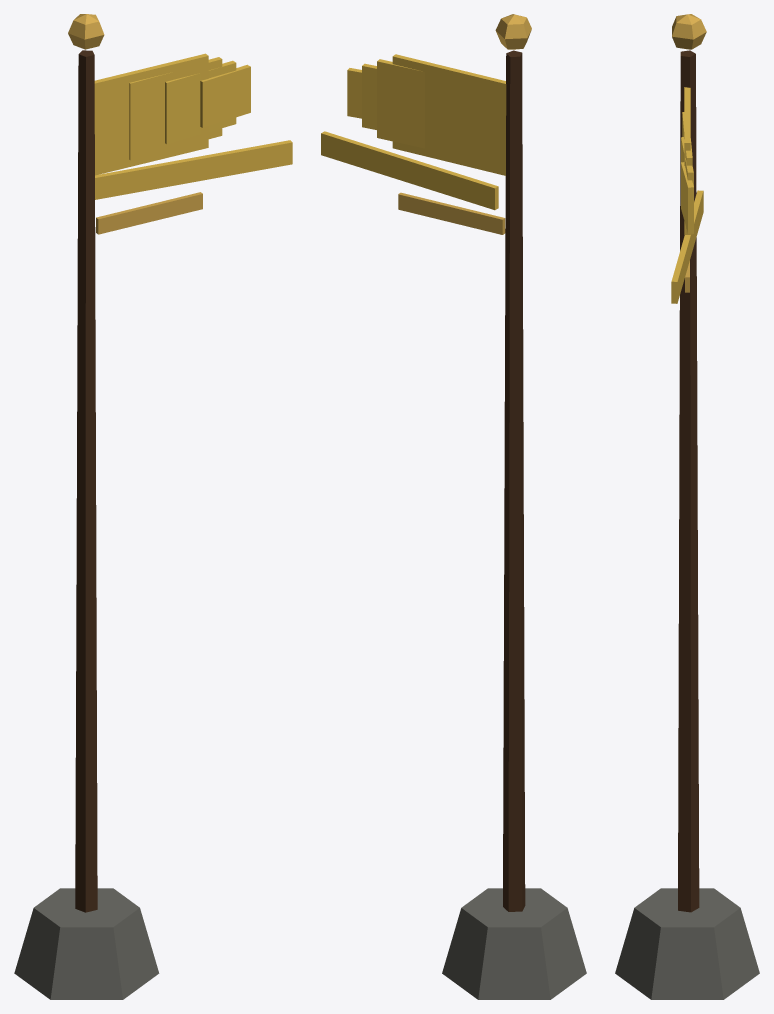
The model's file is prop_obangki_yellow.glb.
The picture shows the model from 3 angles, left to right: view 1: azimuth 30°, elevation 25°; view 2: azimuth 150°, elevation 25°; view 3: azimuth 270°, elevation 25°; orthographic projection.
Parts seen in each view (by area): view 1: prop_obangki_yellow; view 2: prop_obangki_yellow; view 3: prop_obangki_yellow.
Part boxes in pixels (box(x1,y1,x2,y2)): prop_obangki_yellow: box(14, 14, 292, 999); prop_obangki_yellow: box(321, 14, 586, 999); prop_obangki_yellow: box(615, 14, 759, 999).
Bounding box in the file's own units: 1.21 × 4.38 × 0.6.
